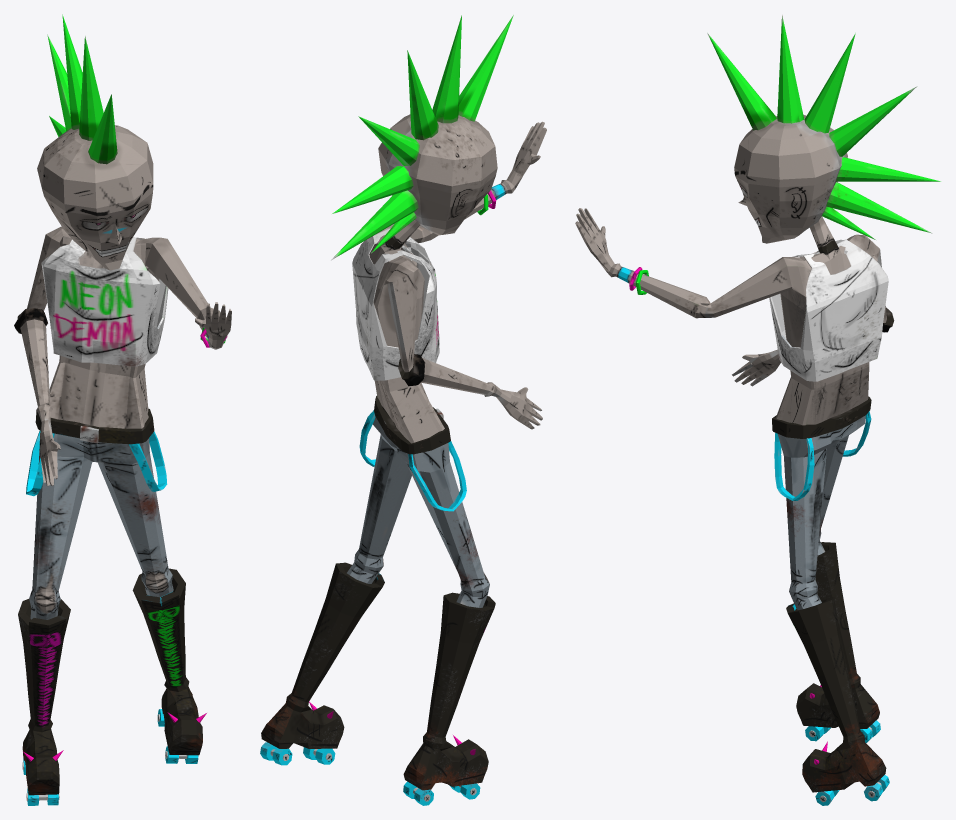
The model's file is punkAnimation_000014.obj.
3 renders of one model, left to right at view 1: azimuth 30°, elevation 25°; view 2: azimuth 150°, elevation 25°; view 3: azimuth 270°, elevation 25°, orthographic. The views are drawn at different scales.
Parts seen in each view (by area): view 1: Cube.004_Cube.003; view 2: Cube.004_Cube.003; view 3: Cube.004_Cube.003.
Boxes of the visible parts, x1,y1,x2,y2 form: Cube.004_Cube.003: [14, 14, 231, 805]; Cube.004_Cube.003: [260, 15, 546, 805]; Cube.004_Cube.003: [575, 15, 940, 805].
Size of the model in its own units: 2.17 by 7.48 by 3.4.
